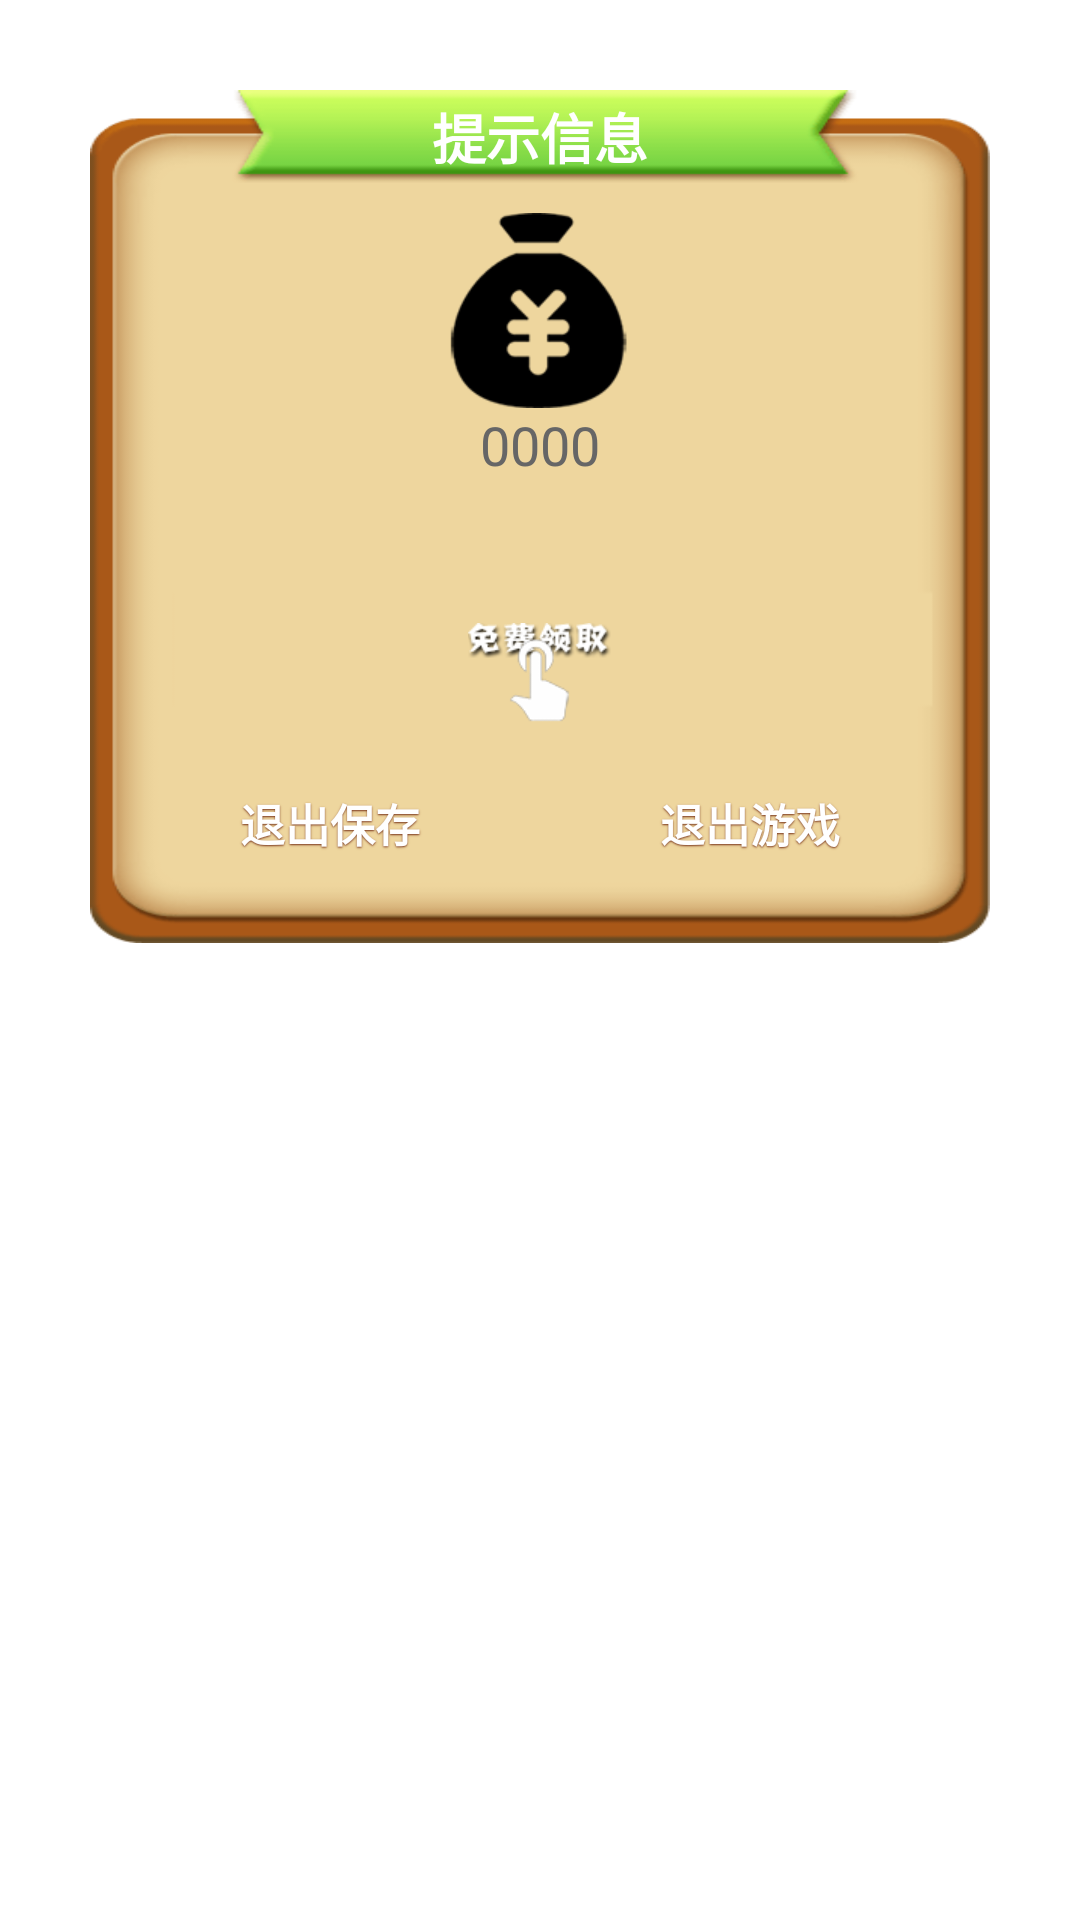

Icon bounding boxes for this 1080w x 1920h phone screenshot, format (x1, y1, x2, y2):
jinbi: (450, 213, 627, 408)
